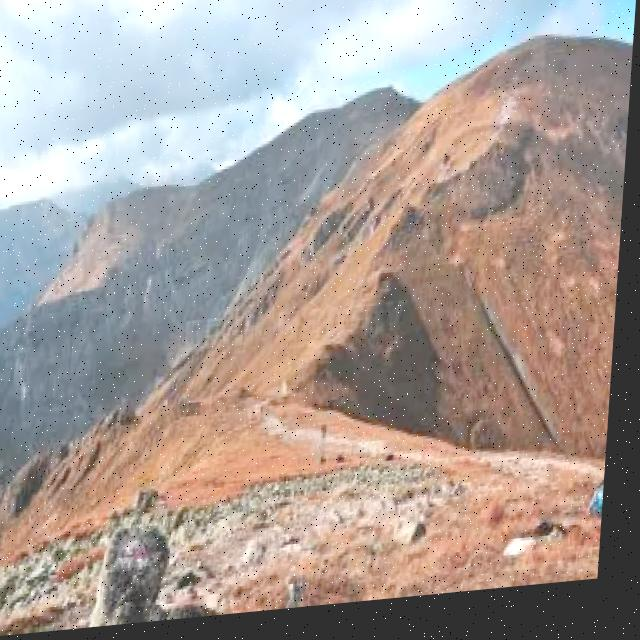Malolaczniak: (451, 0, 630, 110)
